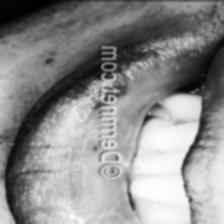Potentially Malignant Skin Tumors: (96, 84, 124, 102)
